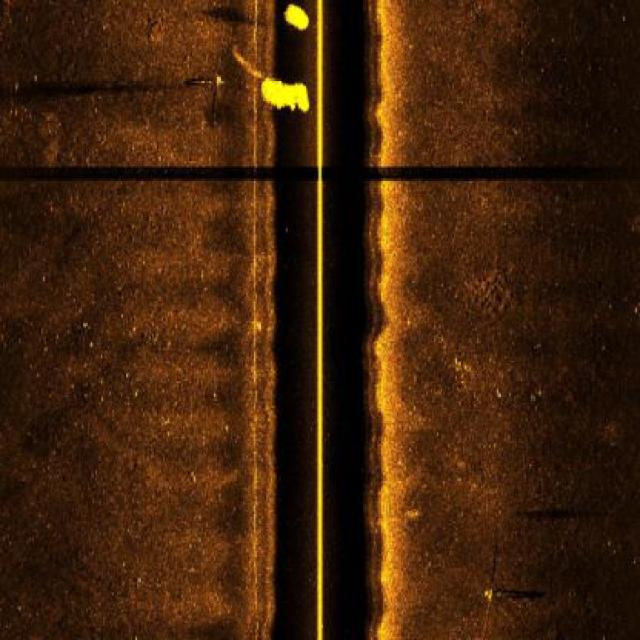mine: (184, 76, 228, 90), (486, 588, 502, 602)
